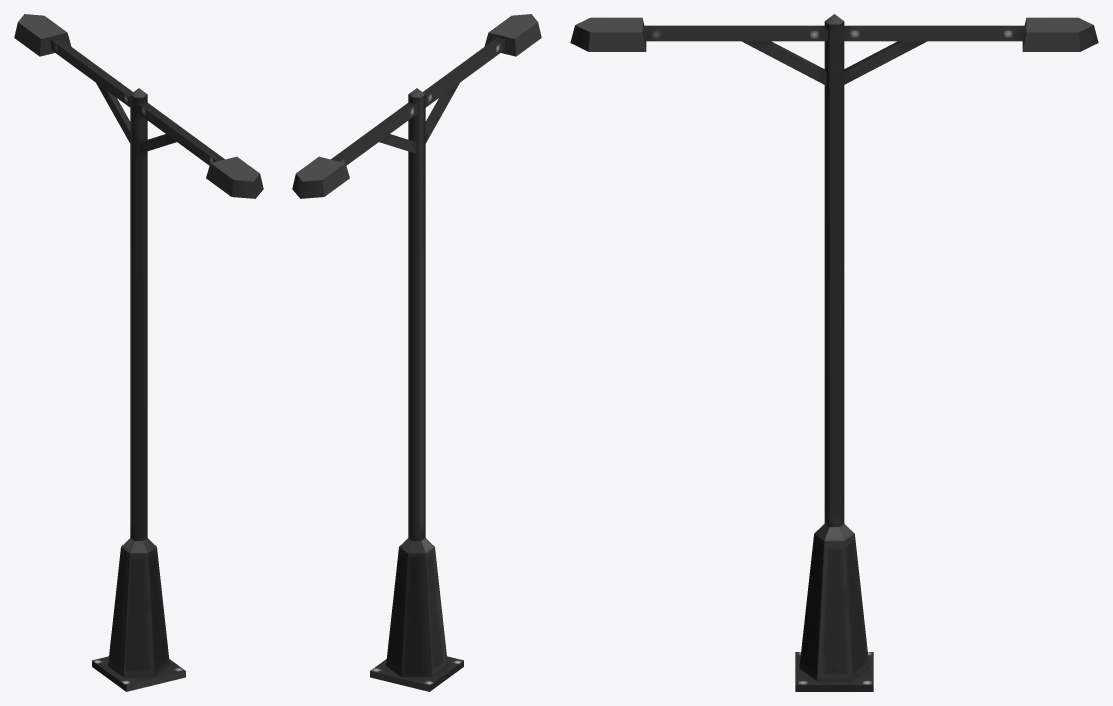
File: Street_Light_001_B.FBX
3 views of the same model, side by side, from view 1: azimuth 30°, elevation 25°; view 2: azimuth 150°, elevation 25°; view 3: azimuth 270°, elevation 25° (orthographic). The views are drawn at different scales.
Visible parts, largest first — view 1: Street_Light_001_B; view 2: Street_Light_001_B; view 3: Street_Light_001_B.
Boxes of the visible parts, bbox=[...] form: Street_Light_001_B: bbox=[14, 14, 263, 691]; Street_Light_001_B: bbox=[292, 14, 541, 691]; Street_Light_001_B: bbox=[570, 14, 1098, 691].
Bounding box in the file's own units: 30 × 203 × 280.
